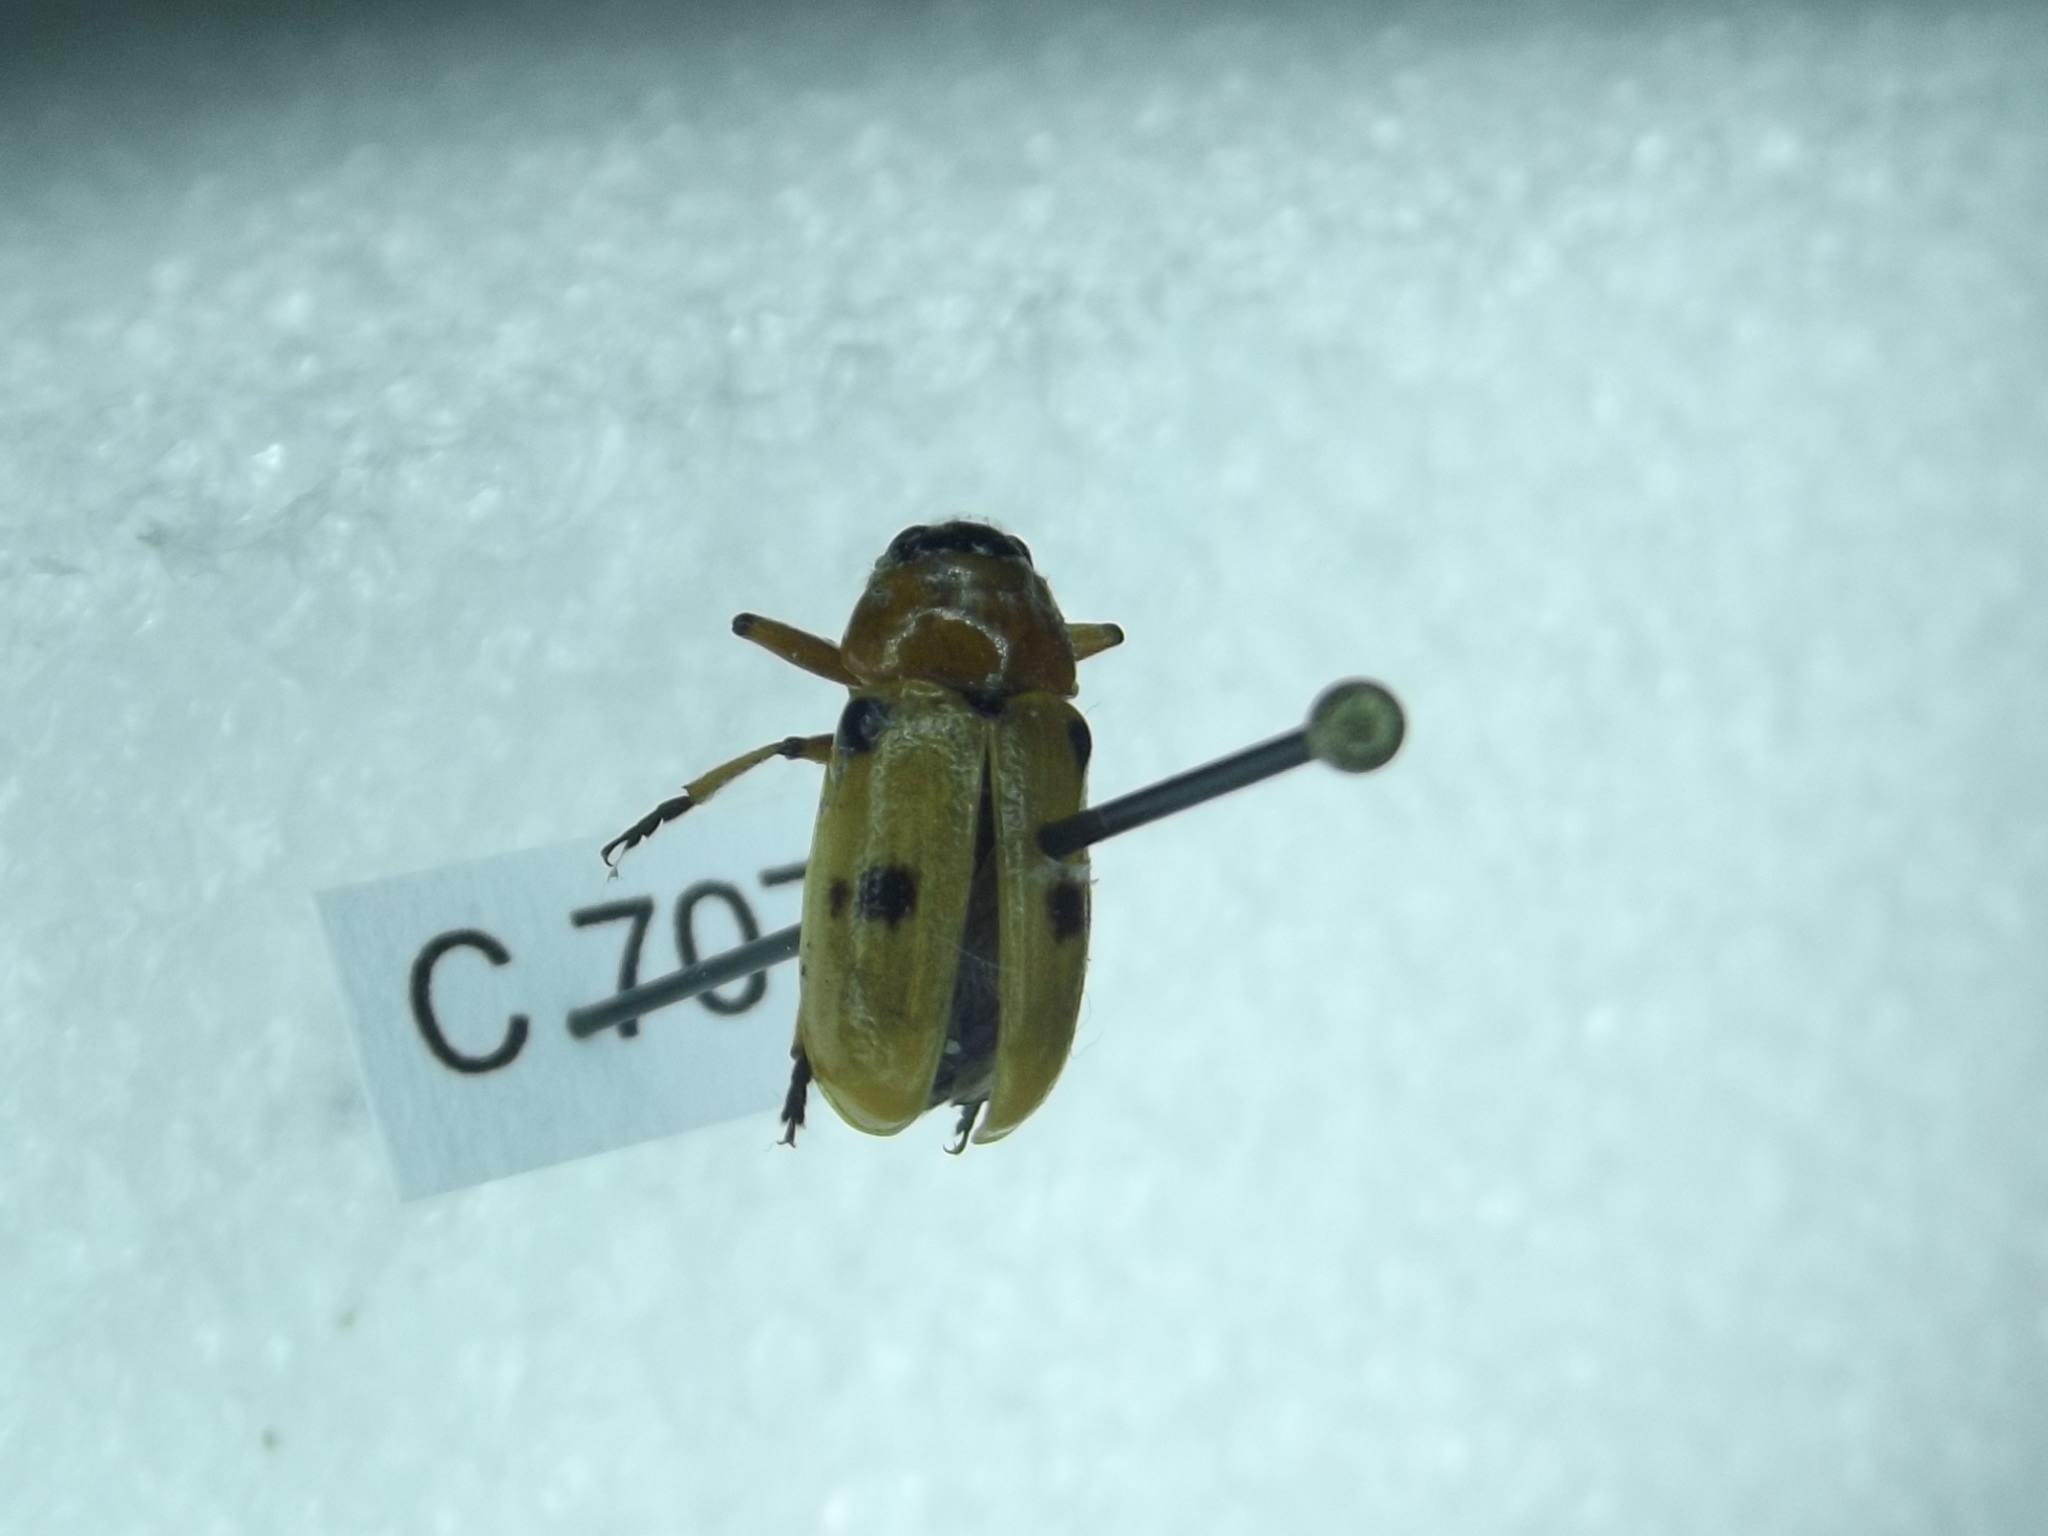Tituboea_macropus: (590, 503, 1130, 1175)
